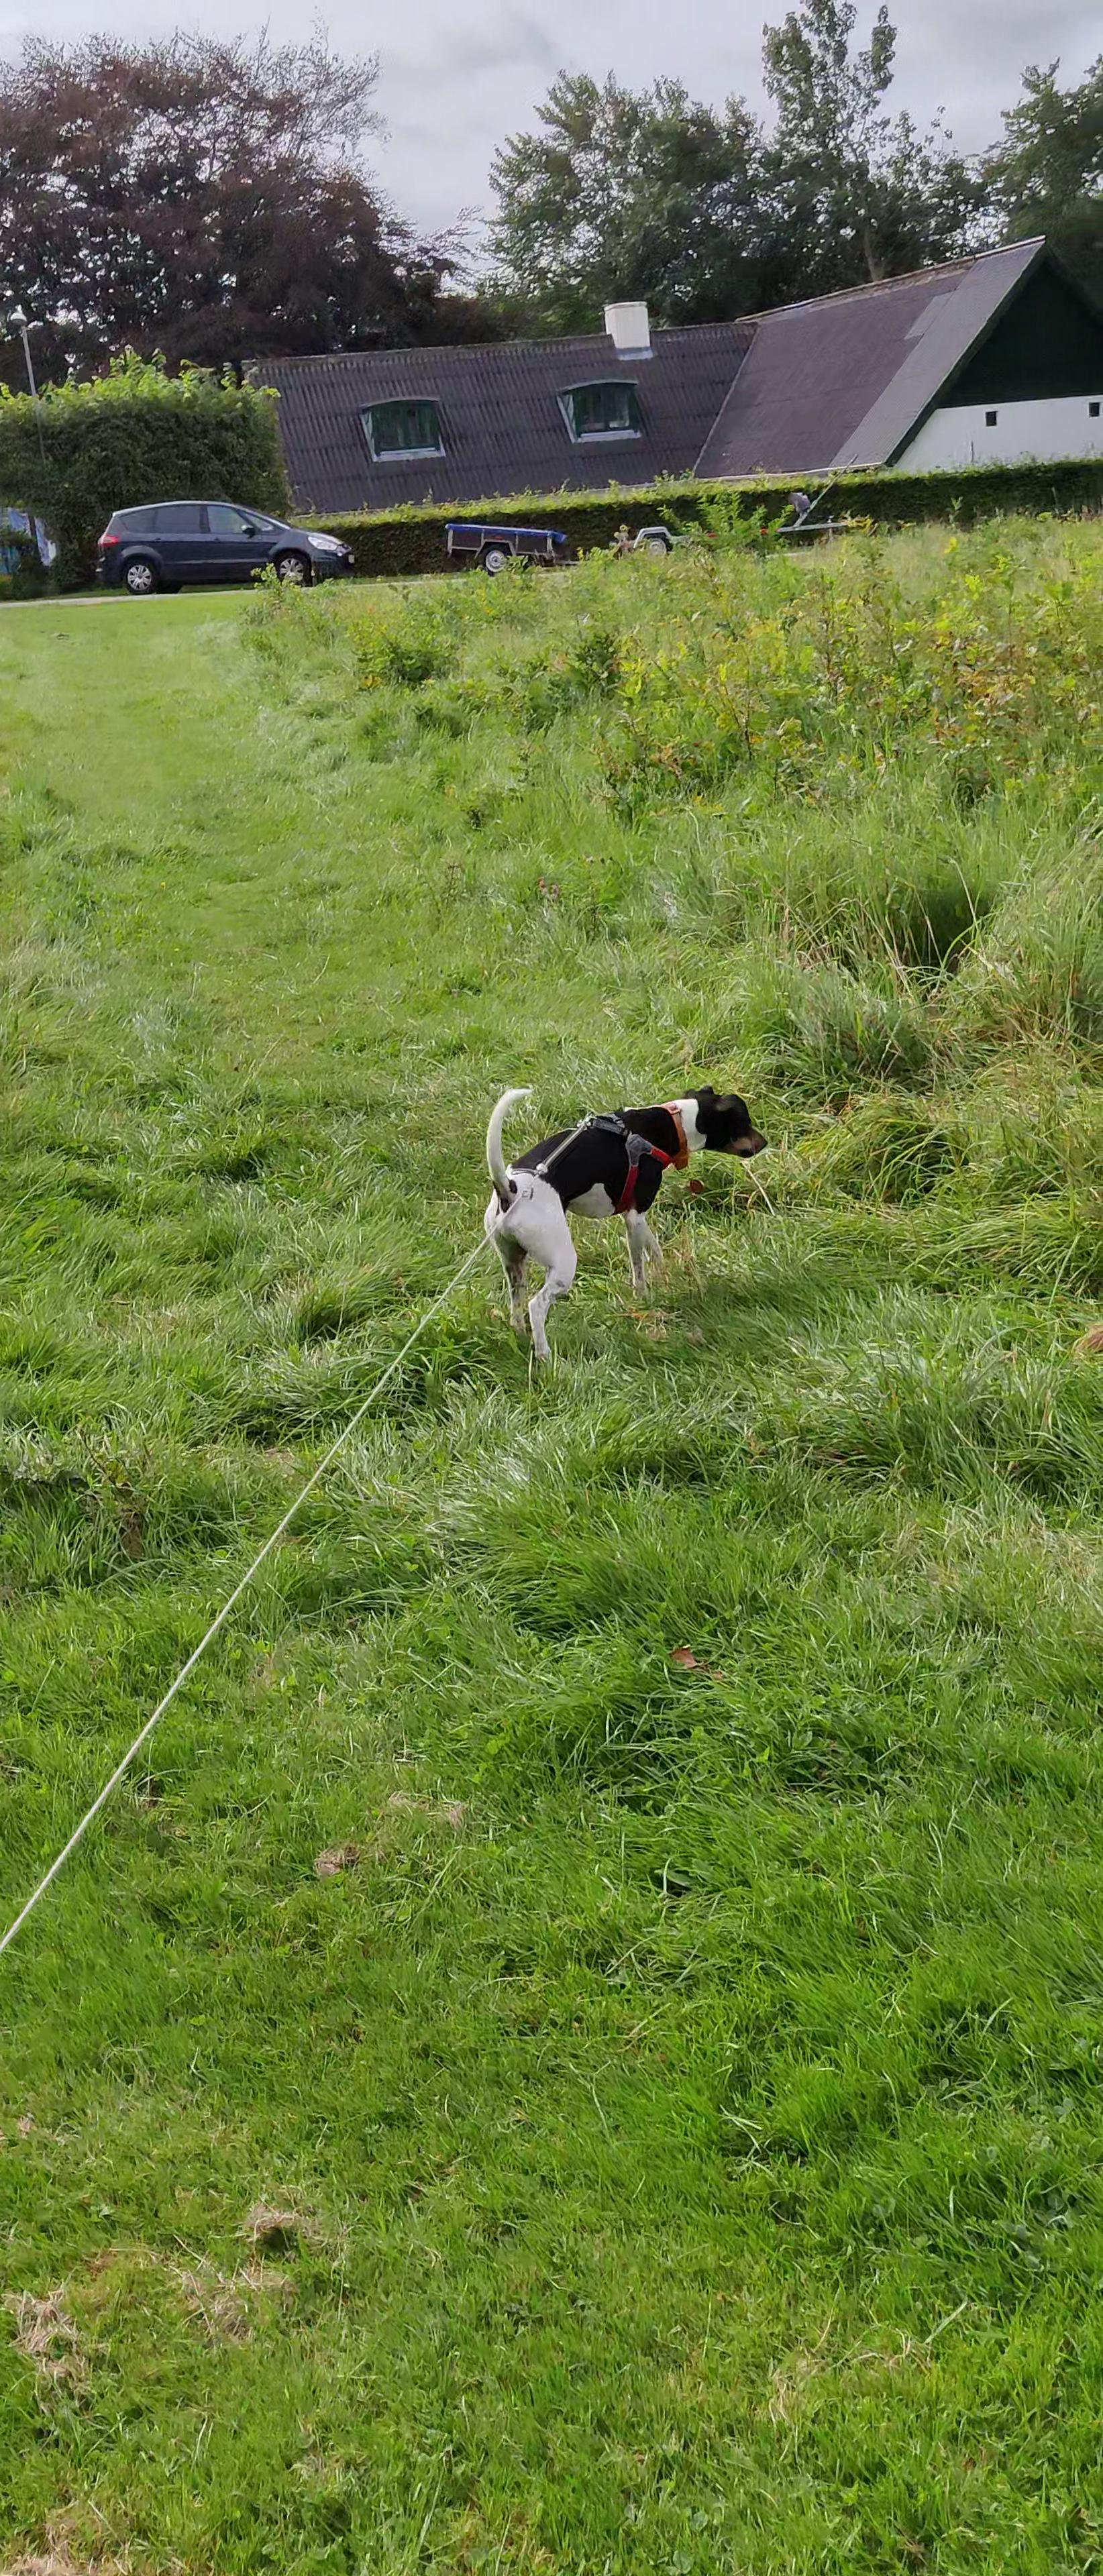Dog: (465, 1079, 782, 1365)
